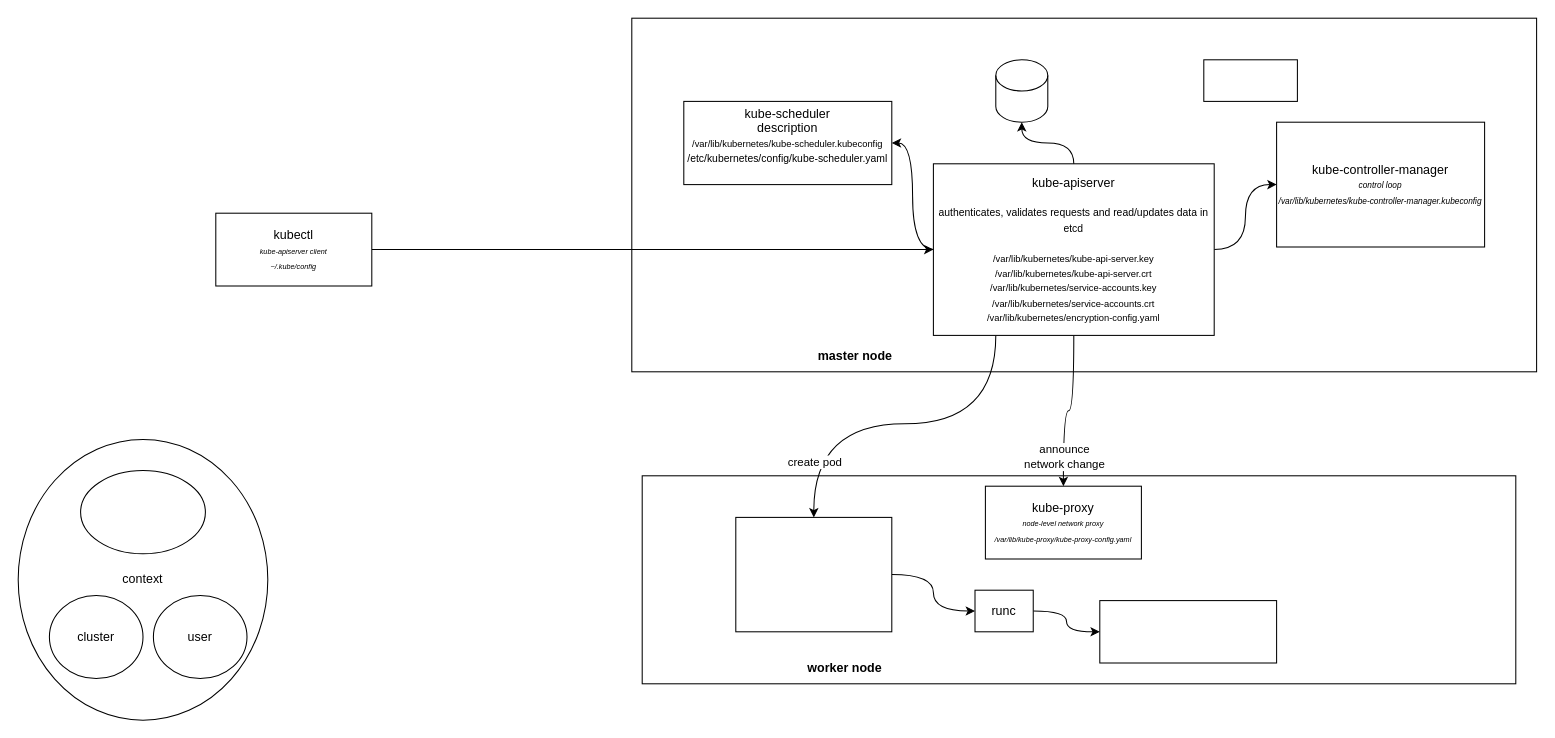
The diagram is 1555 pixels wide and 738 high, and some of its shapes have lost their labels. Each missing label, with the centre of its shape:
cloud-controller-manager: pixel 1250 80
containerd (or cri-o) container runtime /etc/containerd/config.toml: pixel 1188 631
etcd: pixel 1021 90
kubelet primary "node agent" /var/lib/kubelet/kubelet-config.yaml: pixel 813 574
namespace (opt): pixel 142 512
